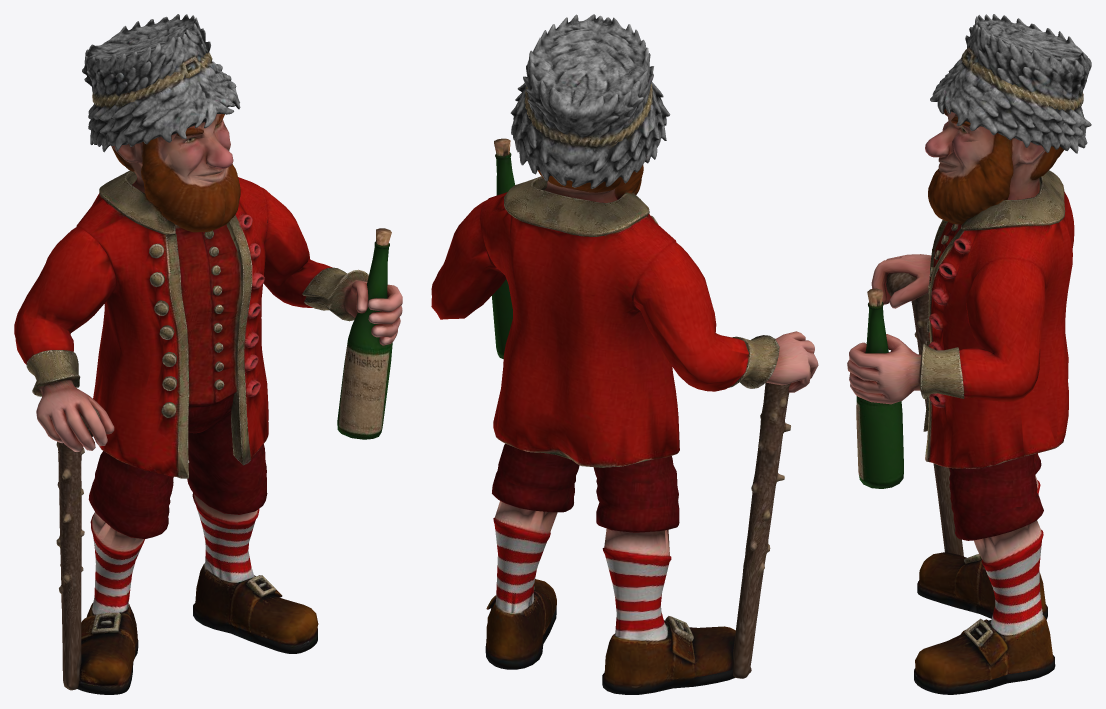
File: Clurichaun.glb
3 renders of one model, left to right at view 1: azimuth 30°, elevation 25°; view 2: azimuth 150°, elevation 25°; view 3: azimuth 270°, elevation 25°, orthographic. The views are drawn at different scales.
Parts seen in each view (by area): view 1: Clurichaun.001; view 2: Clurichaun.001; view 3: Clurichaun.001.
Boxes of the visible parts, x1,y1,x2,y2 form: Clurichaun.001: [14, 14, 402, 694]; Clurichaun.001: [431, 14, 818, 694]; Clurichaun.001: [847, 14, 1091, 694].
Bounding box in the file's own units: 28.88 × 50.15 × 18.09.
Materials: 1 (1 with a texture image).
